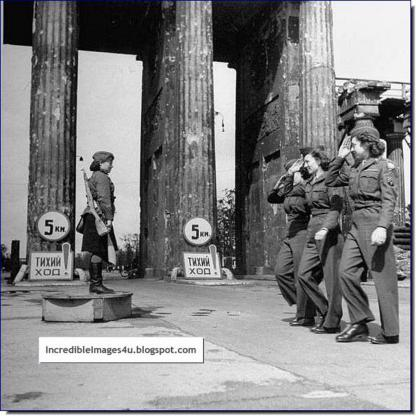face: (351, 140, 367, 159), (306, 159, 319, 175), (289, 171, 302, 186), (103, 159, 114, 175)
